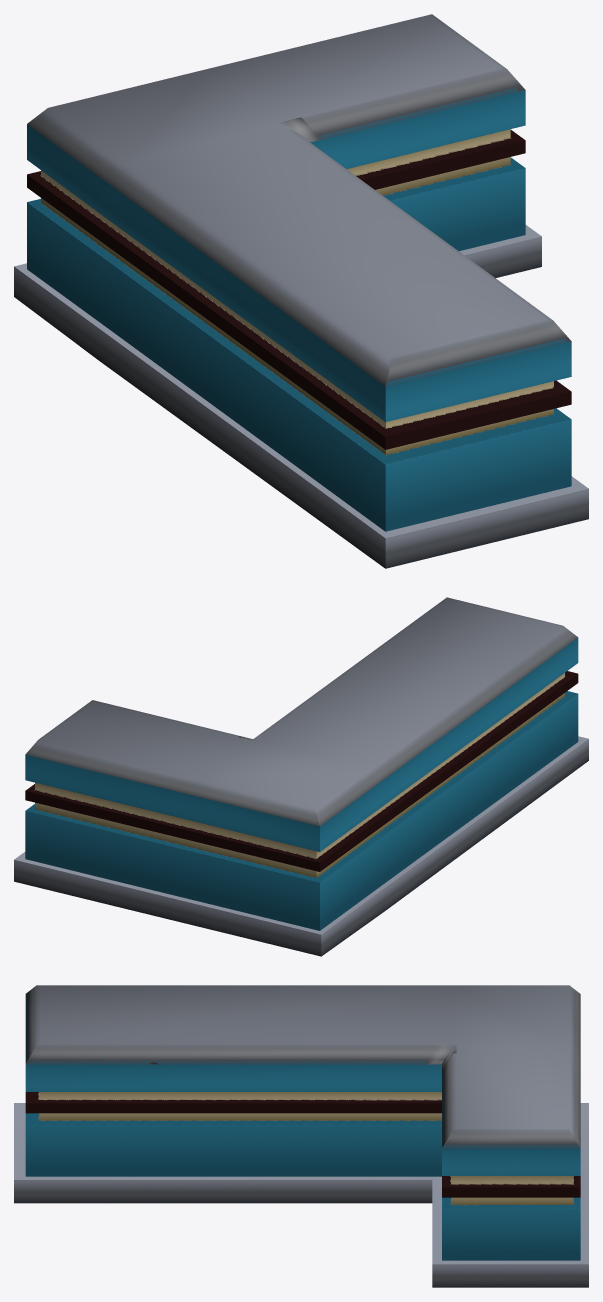
The model's file is SM_bar.fbx.
3 views of the same model, one above another, from view 1: azimuth 30°, elevation 25°; view 2: azimuth 150°, elevation 25°; view 3: azimuth 270°, elevation 25° (orthographic). The views are drawn at different scales.
Parts seen in each view (by area): view 1: bar; view 2: bar; view 3: bar.
Boxes of the visible parts, x1,y1,x2,y2 form: bar: (14, 14, 588, 568); bar: (14, 597, 588, 956); bar: (14, 985, 588, 1287).
Bounding box in the file's own units: 350 × 150 × 525.
